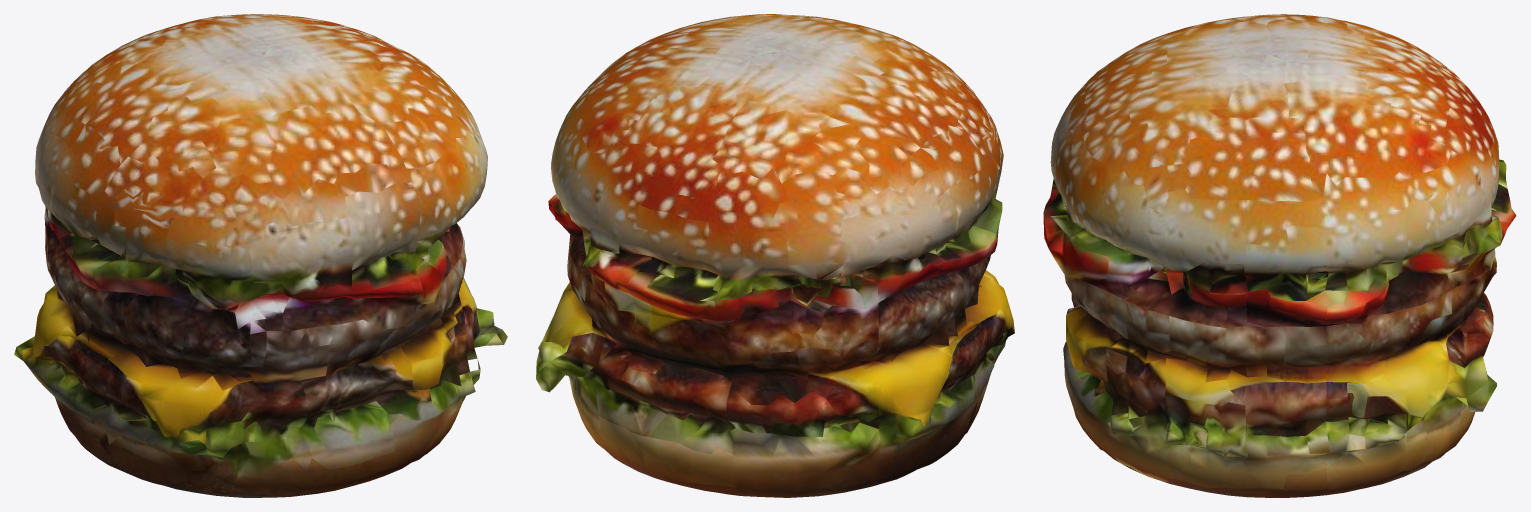
File: hamburger__food_big-hamburger.glb
3 views of the same model, side by side, from view 1: azimuth 30°, elevation 25°; view 2: azimuth 150°, elevation 25°; view 3: azimuth 270°, elevation 25° (orthographic).
Parts seen in each view (by area): view 1: tripo_node_1ddf9045-4af9-4005-8e32-a5c93e033ae9_tripo_mat_1d; view 2: tripo_node_1ddf9045-4af9-4005-8e32-a5c93e033ae9_tripo_mat_1d; view 3: tripo_node_1ddf9045-4af9-4005-8e32-a5c93e033ae9_tripo_mat_1d.
Boxes of the visible parts, x1=… form: tripo_node_1ddf9045-4af9-4005-8e32-a5c93e033ae9_tripo_mat_1d: x1=14, y1=14, x2=507, y2=497; tripo_node_1ddf9045-4af9-4005-8e32-a5c93e033ae9_tripo_mat_1d: x1=536, y1=14, x2=1014, y2=497; tripo_node_1ddf9045-4af9-4005-8e32-a5c93e033ae9_tripo_mat_1d: x1=1043, y1=14, x2=1516, y2=497.
Size of the model in its own units: 0.6335 by 0.5763 by 0.6525.
Materials: 1 (1 with a texture image).
